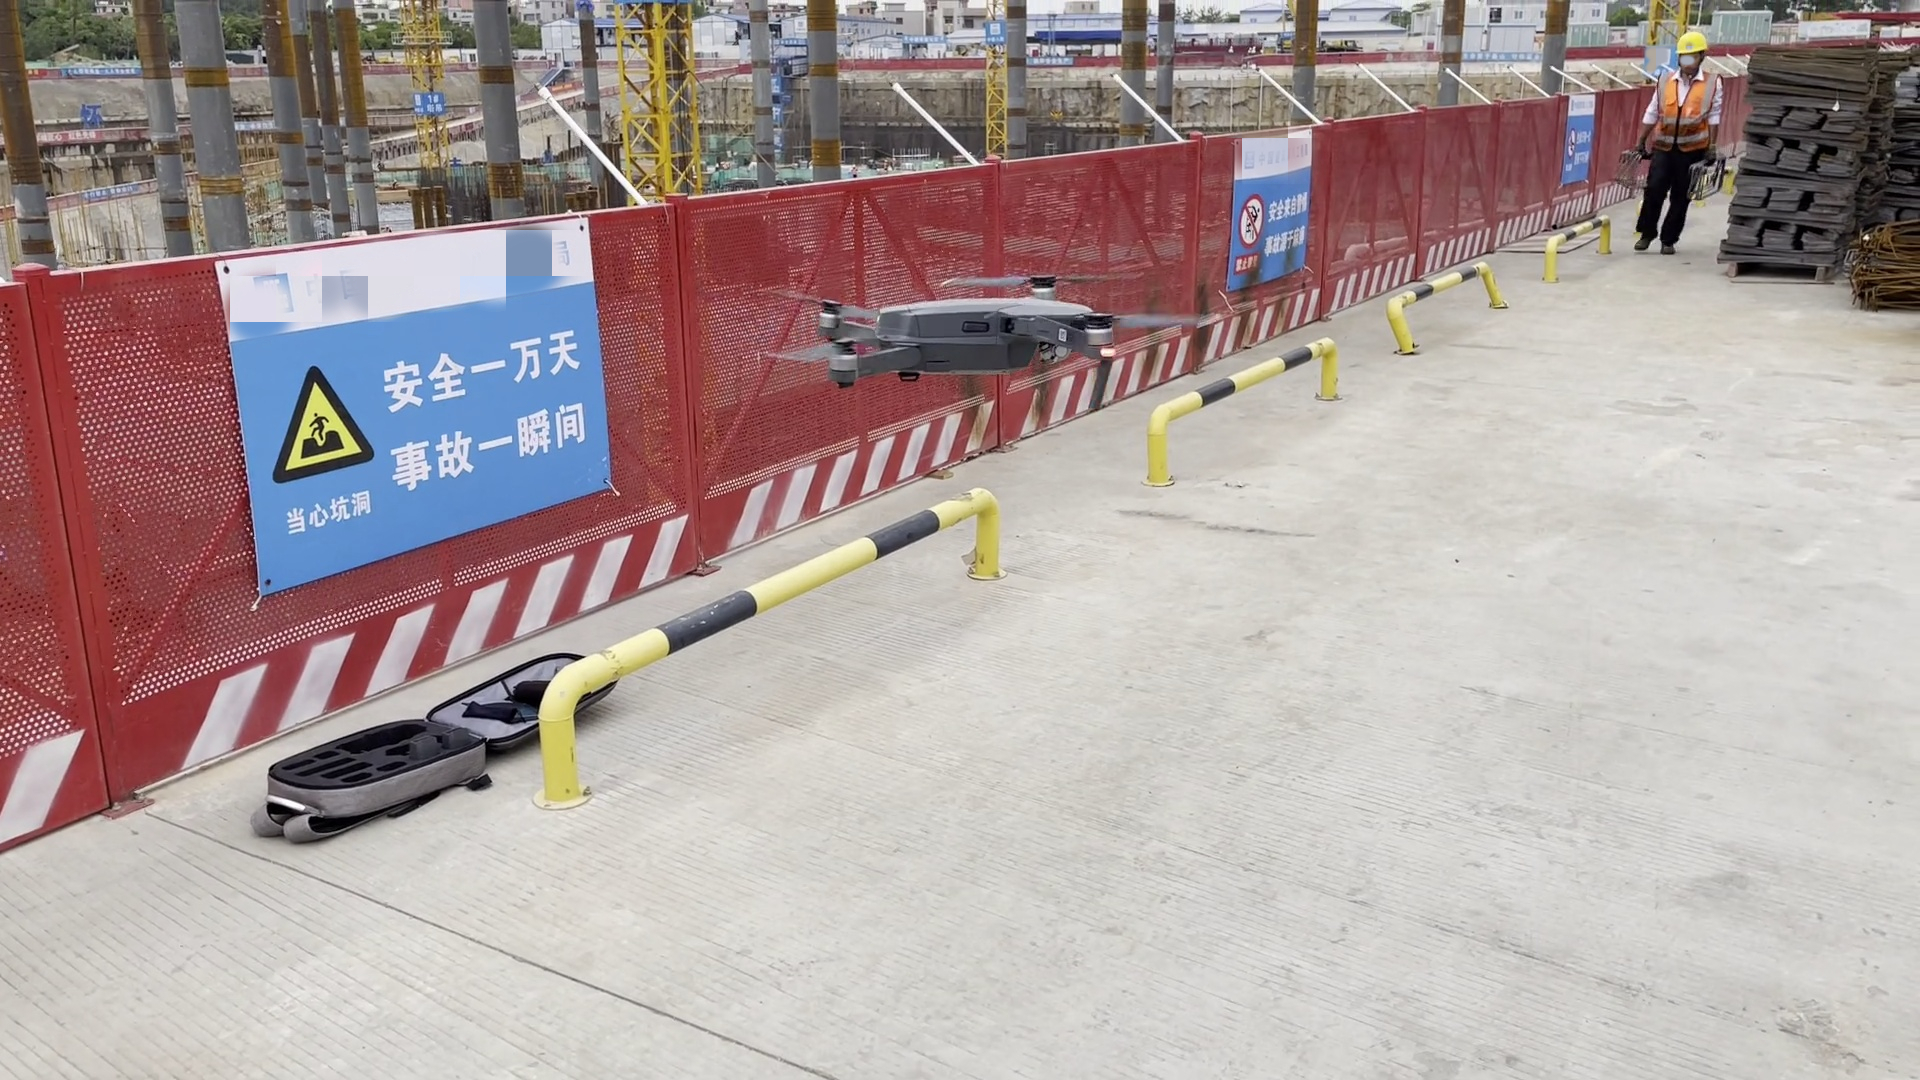fence: (1, 177, 1277, 665), (1247, 48, 1441, 65)
helmet: (1664, 25, 1710, 59)
person: (1636, 29, 1721, 260)
slogan: (277, 343, 605, 491), (1231, 175, 1303, 283), (1459, 49, 1549, 65), (65, 65, 140, 80), (82, 184, 143, 202), (36, 130, 109, 140), (426, 94, 446, 115)
vest: (1654, 75, 1711, 166)
